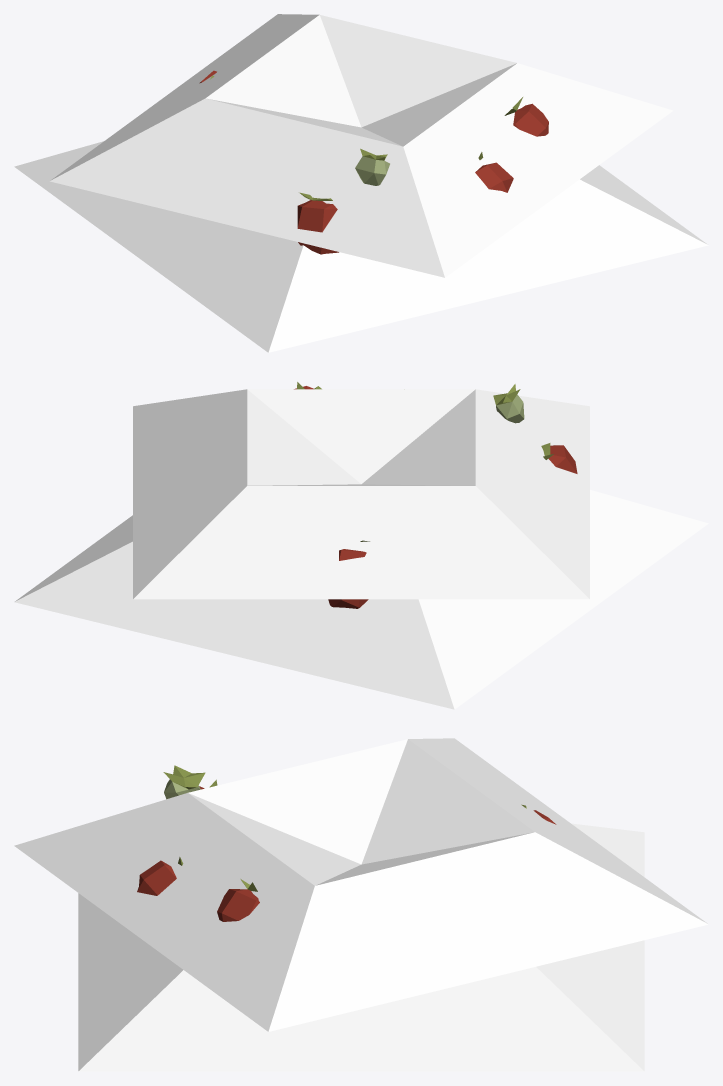
The model's file is strawberry_plant.glb.
The picture shows the model from 3 angles, top to bottom: view 1: azimuth 30°, elevation 25°; view 2: azimuth 150°, elevation 25°; view 3: azimuth 270°, elevation 25°; orthographic projection. The views are drawn at different scales.
Parts seen in each view (by area): view 1: SM_Prop_Plant_Strawberry_01; view 2: SM_Prop_Plant_Strawberry_01; view 3: SM_Prop_Plant_Strawberry_01.
Boxes of the visible parts, bbox=[...] form: SM_Prop_Plant_Strawberry_01: bbox=[14, 14, 708, 352]; SM_Prop_Plant_Strawberry_01: bbox=[14, 382, 708, 709]; SM_Prop_Plant_Strawberry_01: bbox=[14, 738, 708, 1071].
Size of the model in its own units: 0.6887 by 0.1594 by 0.6887.
2 materials, 2 textured.
